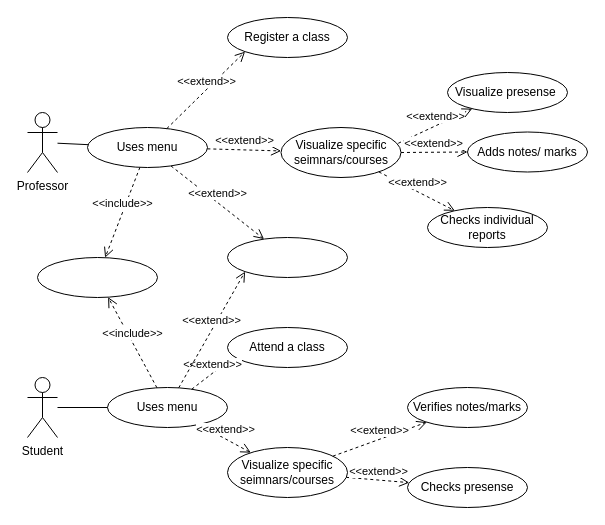
This 605x525 diagram has some shape labels left out. The centre of each missing label's shape, as x and y in pixels:
Checks general courses reports: point (287, 257)
Login: point (97, 277)
